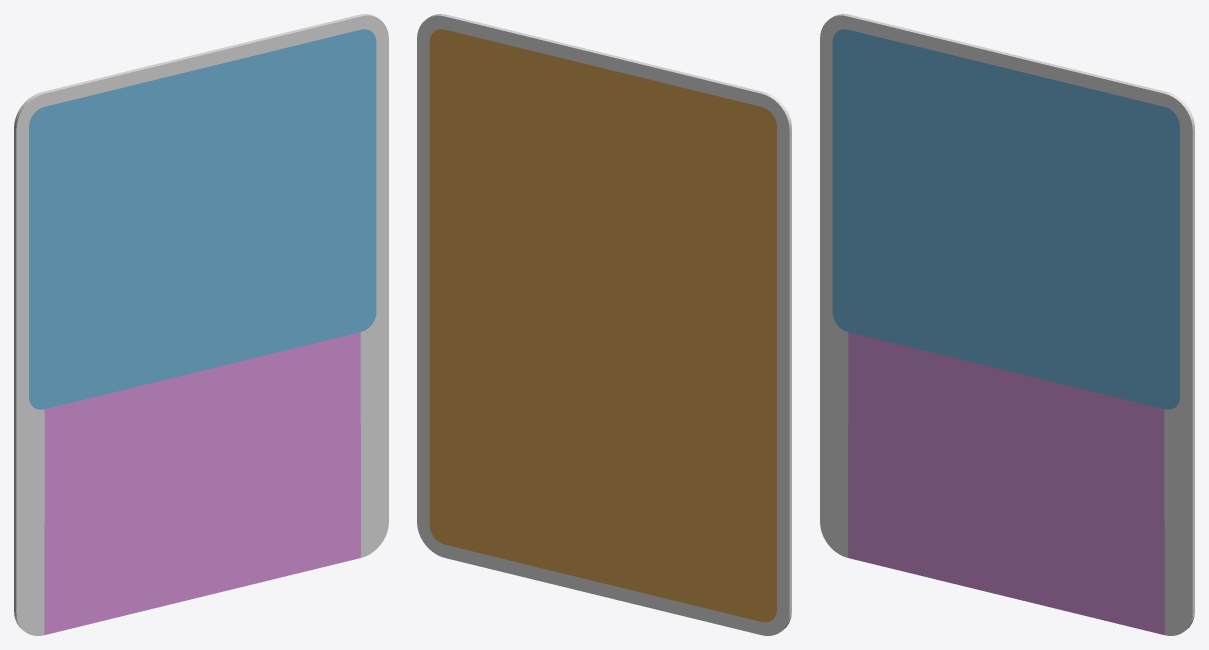
The model's file is HolographicCard.fbx.
3 renders of one model, left to right at view 1: azimuth 30°, elevation 25°; view 2: azimuth 150°, elevation 25°; view 3: azimuth 330°, elevation 25°, orthographic.
Parts seen in each view (by area): view 1: Cube; view 2: Cube; view 3: Cube.
Part boxes in pixels (left/top/right/bottom): Cube: left=14, top=14, right=388, bottom=635; Cube: left=417, top=14, right=791, bottom=635; Cube: left=820, top=14, right=1194, bottom=635.
Size of the model in its own units: 360 by 500 by 4.
